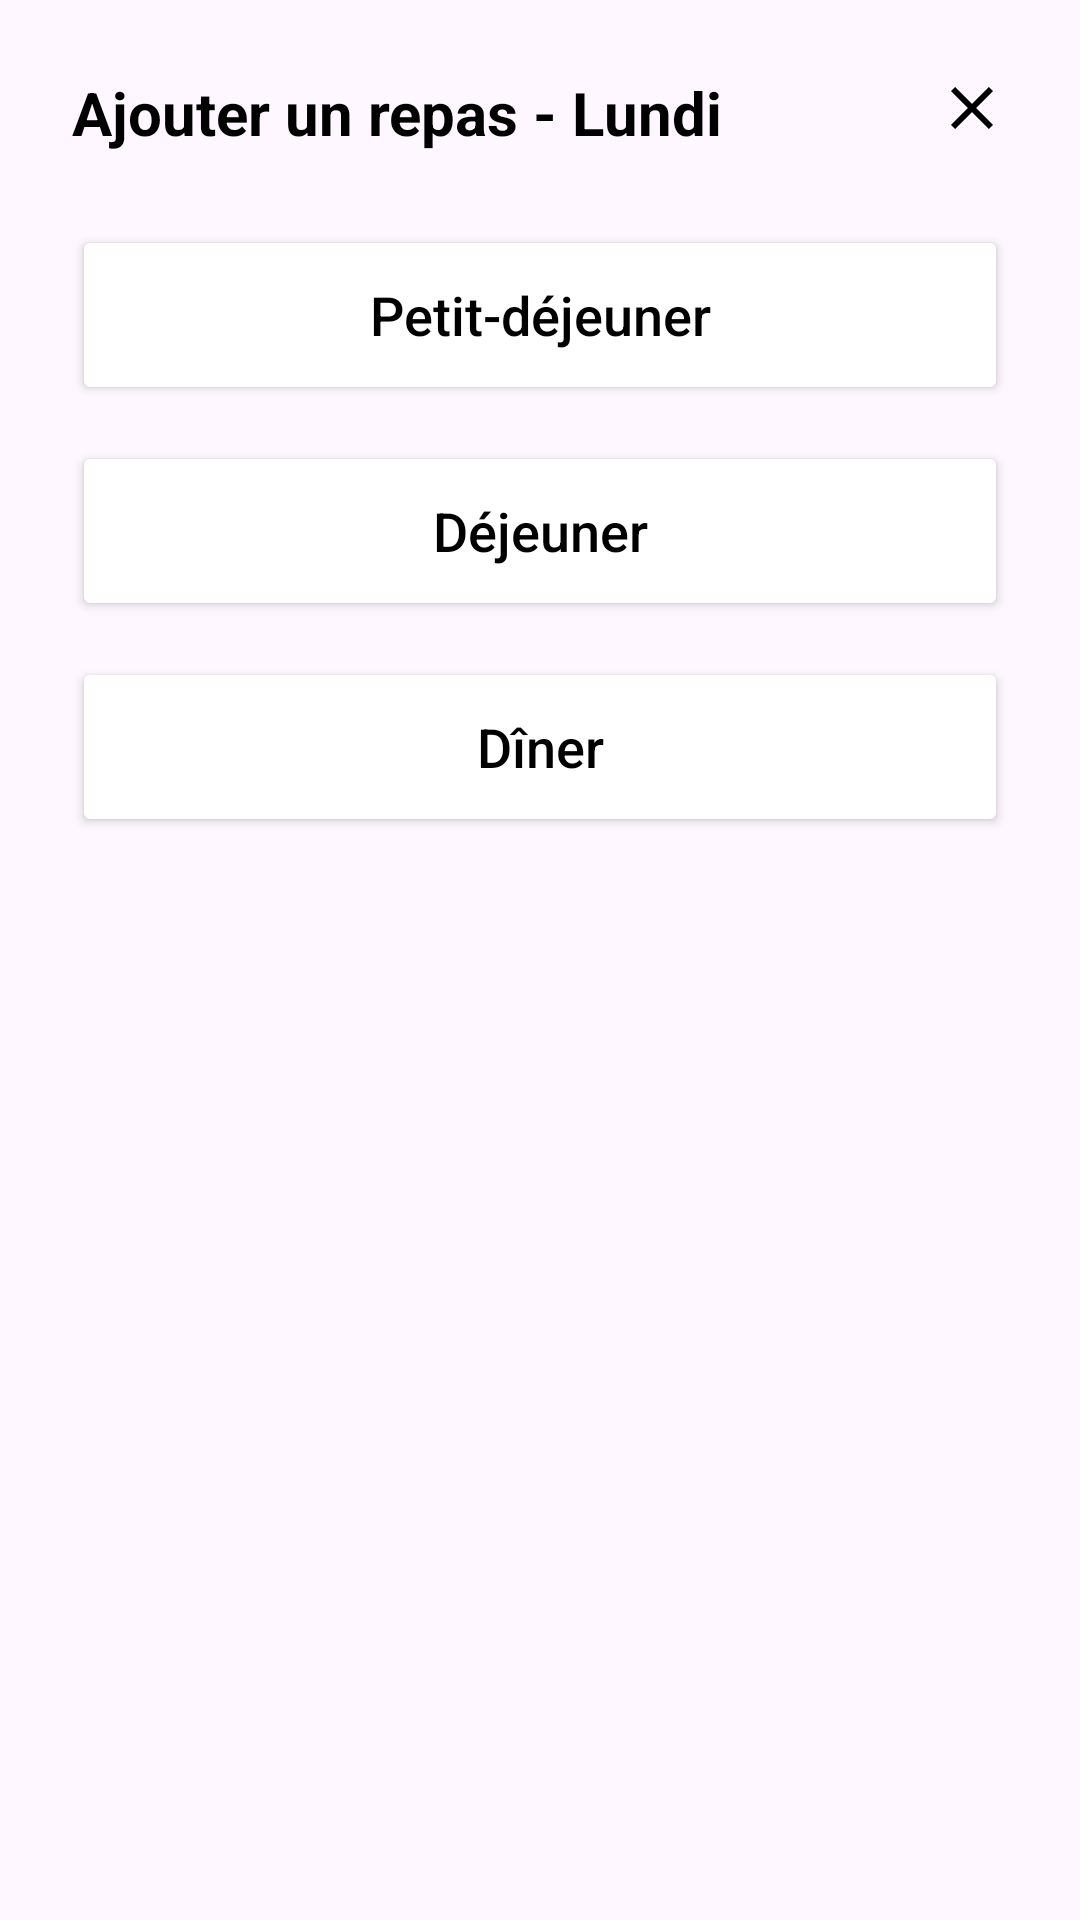

Locate icon controls on the screen. Image size 1080px x 1920px, boxes as Rect(x1, y1, x2, y2).
close: Rect(951, 87, 993, 129)
